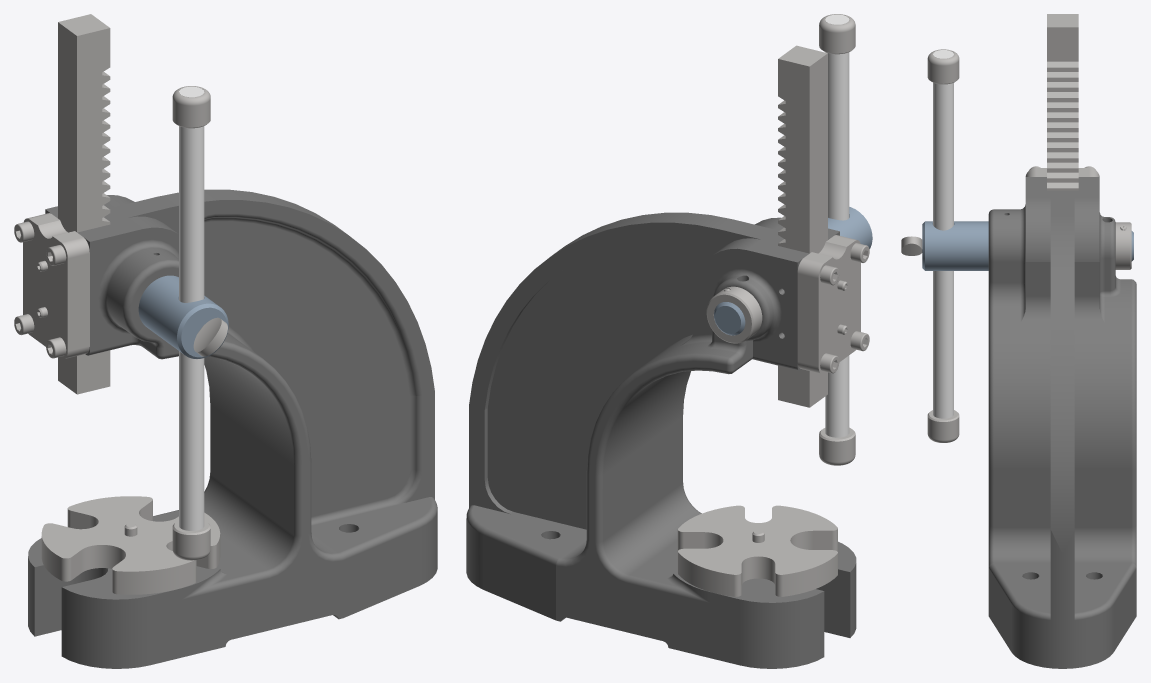
The picture shows the model from 3 angles, left to right: view 1: azimuth 30°, elevation 25°; view 2: azimuth 150°, elevation 25°; view 3: azimuth 270°, elevation 25°; orthographic projection. The views are drawn at different scales.
Visible parts, largest first — view 1: Solid1 (×9); view 2: Solid1 (×9); view 3: Solid1 (×8).
Part boxes in pixels (x1,y1,x2,y2): Solid1 (×9): (23,14,437,668); Solid1 (×9): (466,14,872,668); Solid1 (×8): (901,14,1136,668).
Bounding box in the file's own units: 0.2269 × 0.3365 × 0.1413.
